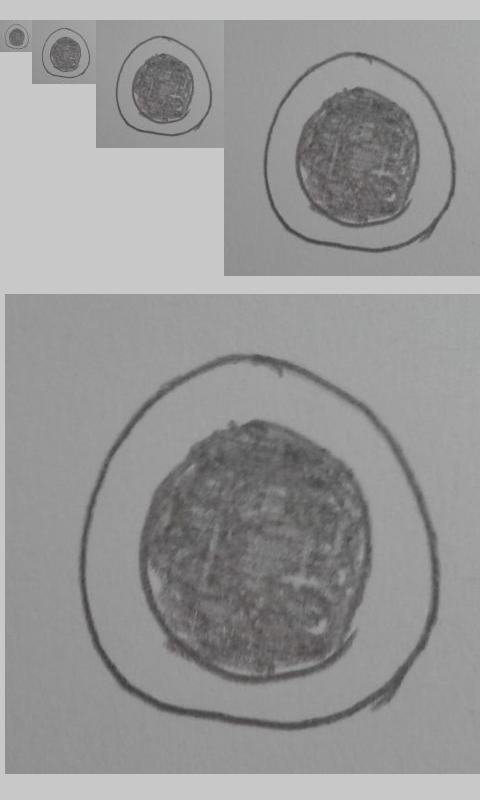radio_button: (73, 348, 443, 734), (262, 48, 458, 256), (115, 35, 214, 138), (41, 26, 91, 79), (4, 23, 30, 50)
